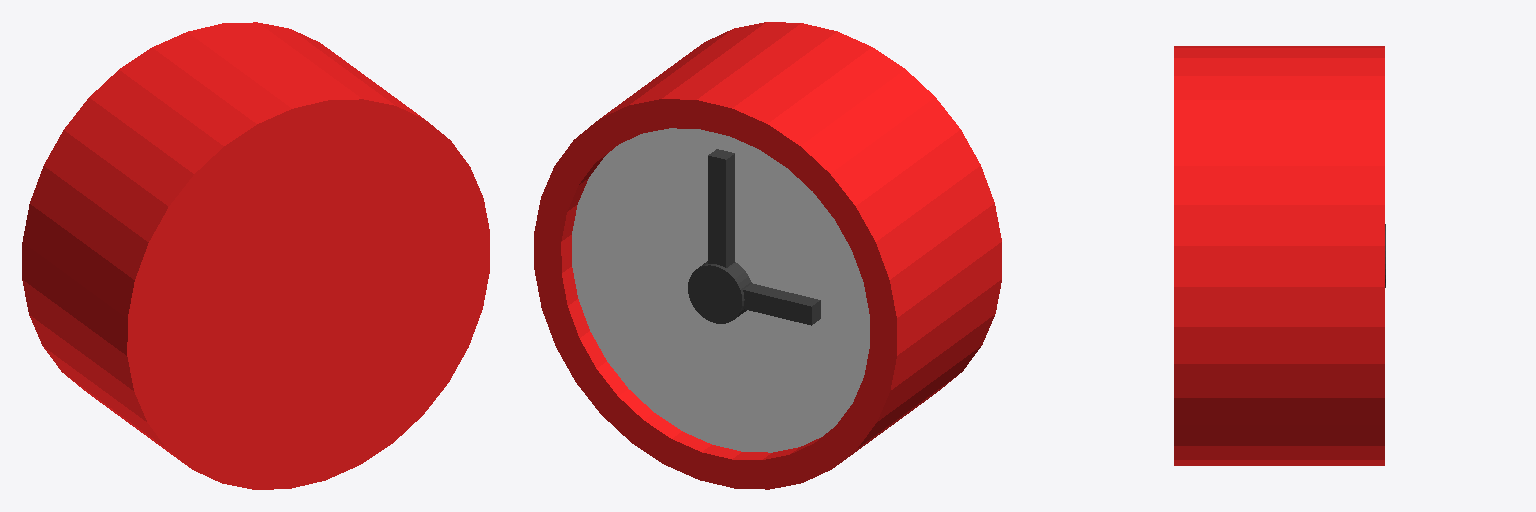
The picture shows the model from 3 angles: view 1: azimuth 30°, elevation 25°; view 2: azimuth 150°, elevation 25°; view 3: azimuth 270°, elevation 25°; orthographic projection.
Visible parts, largest first — view 1: Clock; view 2: Clock; view 3: Clock.
Part boxes in pixels (x1,y1,x2,y2): Clock: (22, 22, 489, 489); Clock: (534, 22, 1001, 489); Clock: (1174, 46, 1385, 465).
Bounding box in the file's own units: 1.99 × 1.99 × 1.01.
1 materials, 1 textured.